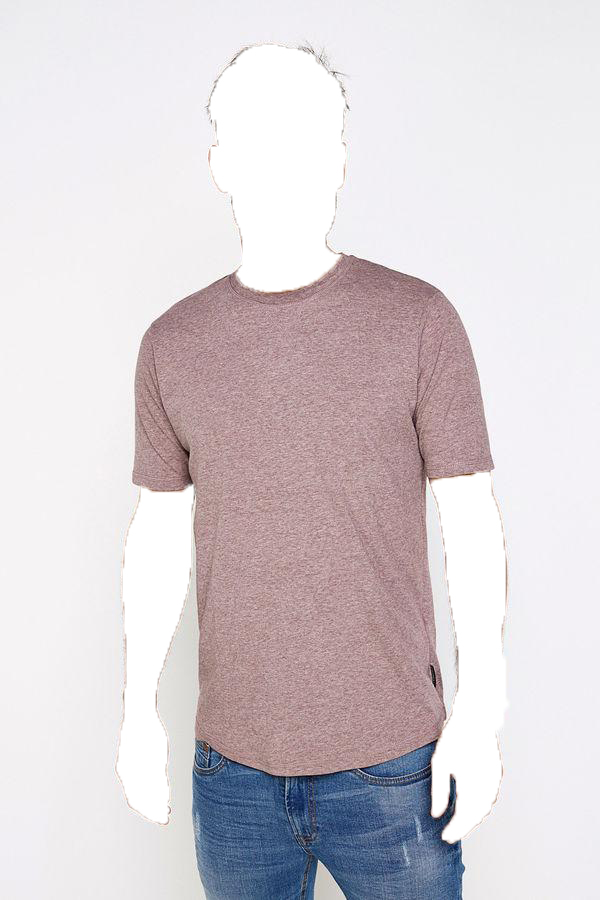teeshirt: (116, 251, 498, 769)
